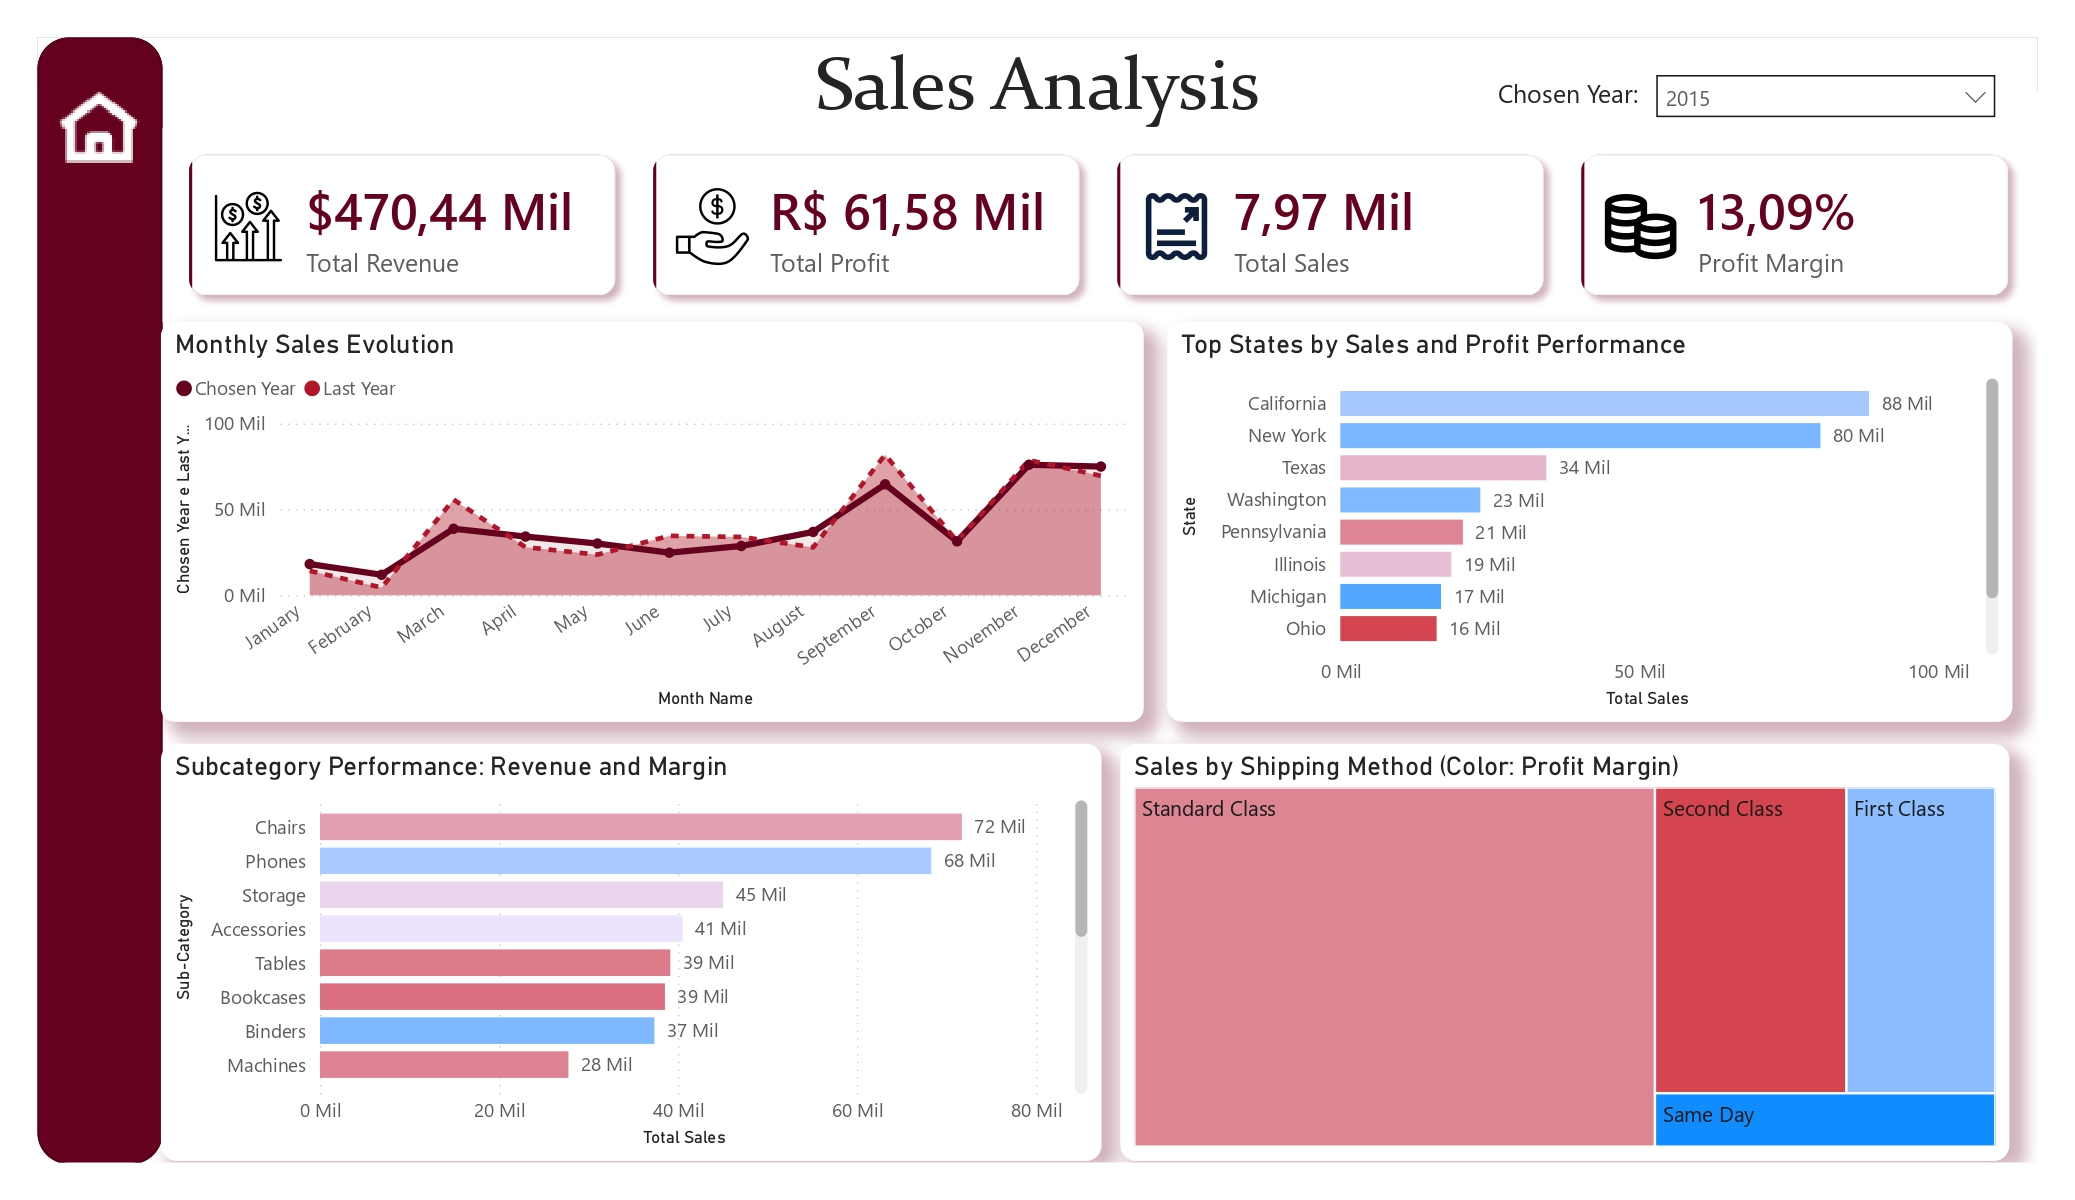

What the dashboard file says about the page in this screenshot:
{"tool":"powerbi","page":{"name":"Página 1","canvas":[1280,720],"ordinal":0},"visuals":[{"type":"textbox","box":[0,0,1280.3,68],"z":0},{"type":"shape","box":[0,0,79.9,720.8],"z":1000},{"type":"cardVisual","fields":{"Data":["_Medidas.Total Sales","_Medidas.Total Profit","_Medidas.Total Quantity","_Medidas.Profit Margin"]},"box":[79.9,57.9,1200.3,124],"z":2000},{"type":"lineChart","title":"Monthly Sales Evolution","fields":{"Category":["dCalendario.Month Name"],"Y":["_Medidas.Total Sales","_Medidas.Sales LY"]},"box":[79.4,182.1,628.5,256.1],"z":3000},{"type":"slicer","title":"Chosen Year","fields":{"Values":["dCalendario.year"]},"box":[1026.3,13.7,236.4,41.1],"z":4000},{"type":"clusteredBarChart","title":" Subcategory Performance: Revenue and Margin","fields":{"Category":["dProducts3.Sub-Category"],"Y":["_Medidas.Total Sales"]},"box":[79.4,451.9,601.1,267],"z":5000},{"type":"actionButton","box":[6.2,23.6,67.2,68.4],"z":6000},{"type":"barChart","title":" Top  States by Sales and Profit Performance","fields":{"Category":["dGeography2.State"],"Y":["_Medidas.Total Sales"]},"box":[723,182.1,540.9,256.1],"z":7000},{"type":"treemap","title":"Sales by Shipping Method (Color: Profit Margin)","fields":{"Group":["fSales1.Ship Mode"],"Values":["_Medidas.Total Sales"]},"box":[692.9,451.9,569.6,267],"z":8000},{"type":"textbox","box":[926.7,19.9,105.7,39.8],"z":9000}]}

Visuals, with their boxes in screenshot pixels (x1, y1, x2, y2):
textbox: x1=32 y1=103 x2=2007 y2=208
shape: x1=32 y1=103 x2=156 y2=1199
cardVisual - _Medidas.Total Sales x _Medidas.Total Profit: x1=156 y1=192 x2=2007 y2=383
"Monthly Sales Evolution" lineChart: x1=155 y1=383 x2=1124 y2=778
"Chosen Year" slicer: x1=1615 y1=124 x2=1980 y2=187
" Subcategory Performance: Revenue and Margin" clusteredBarChart: x1=155 y1=800 x2=1082 y2=1199
actionButton: x1=42 y1=139 x2=146 y2=245
" Top  States by Sales and Profit Performance" barChart: x1=1147 y1=383 x2=1981 y2=778
"Sales by Shipping Method (Color: Profit Margin)" treemap: x1=1101 y1=800 x2=1979 y2=1199
textbox: x1=1461 y1=133 x2=1624 y2=195
